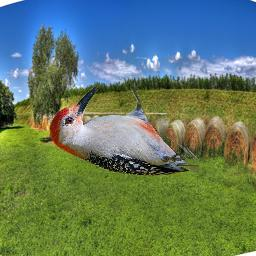Woodpecker: (50, 86, 199, 176)
